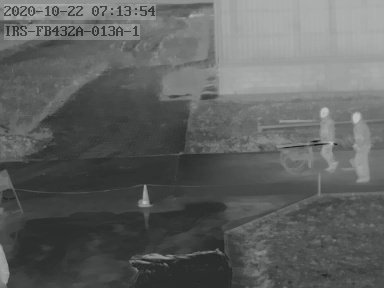person: (349, 111, 373, 182), (319, 107, 339, 172)
